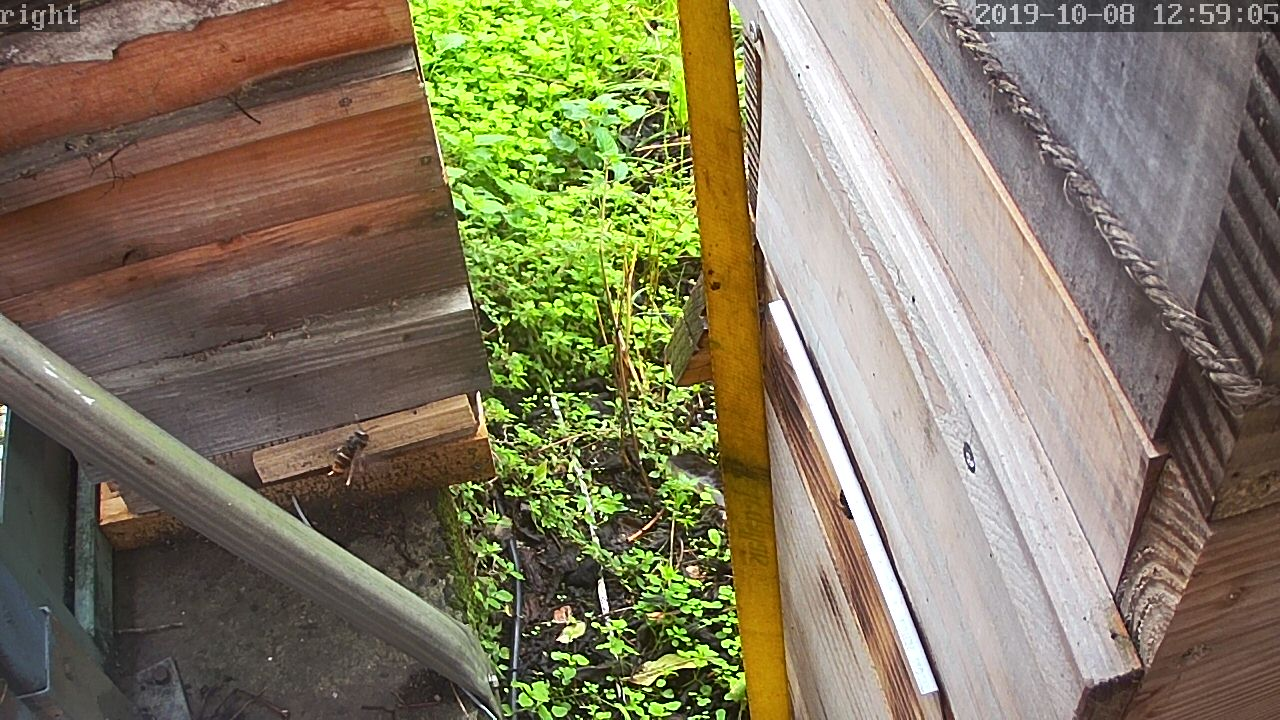bee: (834, 486, 856, 526)
hornet: (313, 422, 388, 484)
